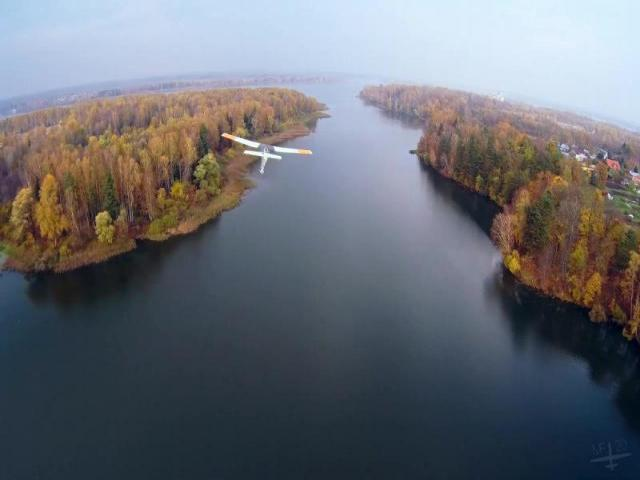hedef: (215, 121, 316, 187)
